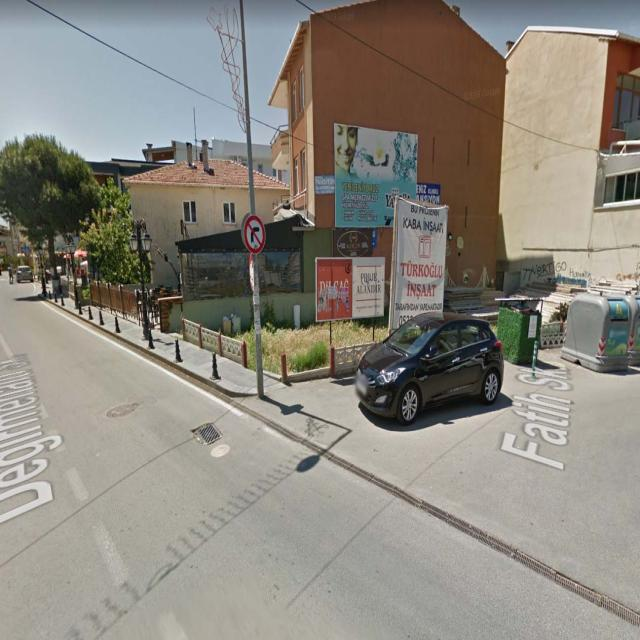sagadonulmez: (244, 215, 265, 254)
